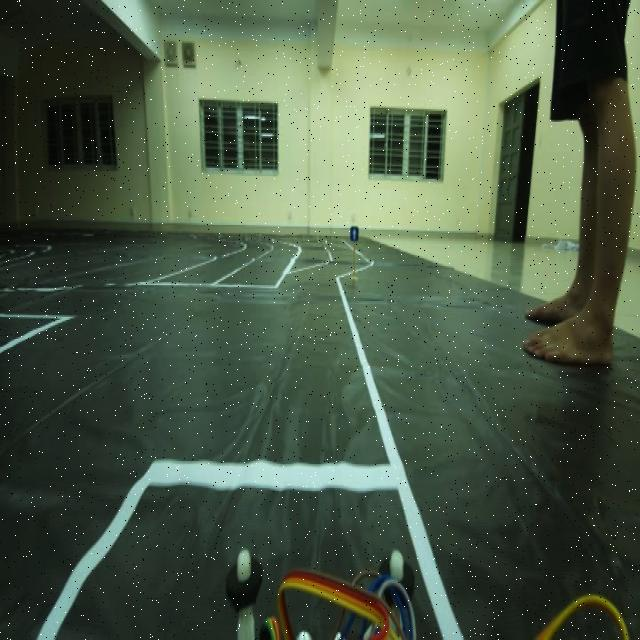onewayroad: (347, 220, 362, 242)
